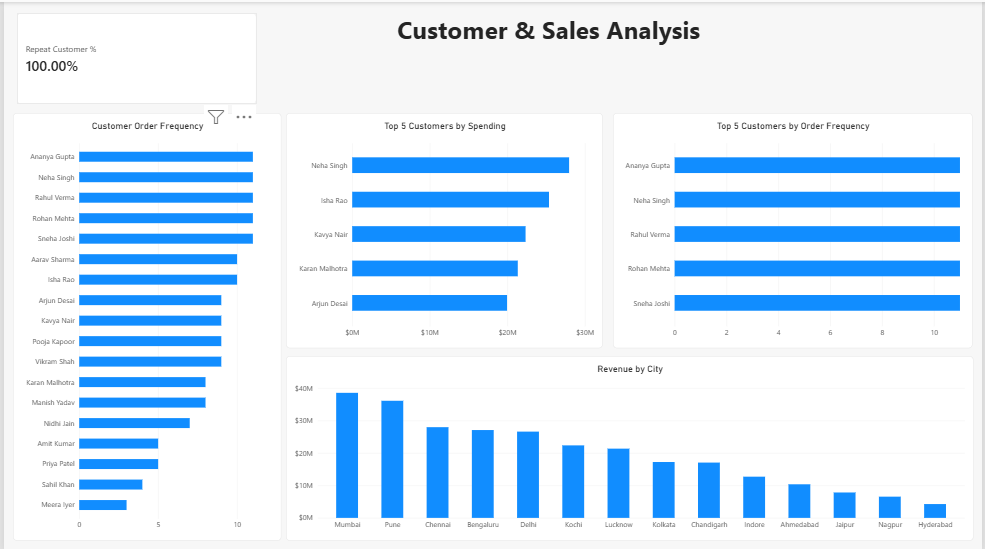

This screenshot's page, from the dashboard's own definition file:
{"tool":"powerbi","page":{"name":"Customer & Sales Analysis","canvas":[1920,1080],"ordinal":1},"visuals":[{"type":"clusteredBarChart","title":"Top 5 Customers by Spending","fields":{"Category":["ecommerce_powerbi_project customers.customer_name"],"Y":["ecommerce_powerbi_project orders.Total Revanue"]},"box":[553,218.2,622.1,462.2],"z":0},{"type":"clusteredColumnChart","title":"Revenue by City","fields":{"Category":["ecommerce_powerbi_project customers.city"],"Y":["ecommerce_powerbi_project orders.Total Revanue"]},"box":[553,695.5,1350,362.9],"z":1000},{"type":"barChart","title":"Customer Order Frequency","fields":{"Category":["ecommerce_powerbi_project customers.customer_name"],"Y":["ecommerce_powerbi_project orders.Total orders"]},"box":[17.3,218.2,527,840.2],"z":2000},{"type":"cardVisual","fields":{"Data":["ecommerce_powerbi_project orders.Repeat Customer %"]},"box":[25.9,21.6,470.9,179.3],"z":3000},{"type":"clusteredBarChart","title":"Top 5 Customers by Order Frequency","fields":{"Category":["ecommerce_powerbi_project customers.customer_name"],"Y":["ecommerce_powerbi_project orders.customer orders"]},"box":[1196.6,218.2,706.3,462.2],"z":4000},{"type":"textbox","box":[553,21.6,1028.2,164.2],"z":5000}]}

Visuals, with their boxes in screenshot pixels (x1, y1, x2, y2), scaled from the page's 1920x1080 canvas onto the 985x549 screenshot:
"Top 5 Customers by Spending" clusteredBarChart: Rect(284, 111, 603, 346)
"Revenue by City" clusteredColumnChart: Rect(284, 354, 976, 538)
"Customer Order Frequency" barChart: Rect(9, 111, 279, 538)
cardVisual - ecommerce_powerbi_project orders.Repeat Customer %: Rect(13, 11, 255, 102)
"Top 5 Customers by Order Frequency" clusteredBarChart: Rect(614, 111, 976, 346)
textbox: Rect(284, 11, 811, 94)
